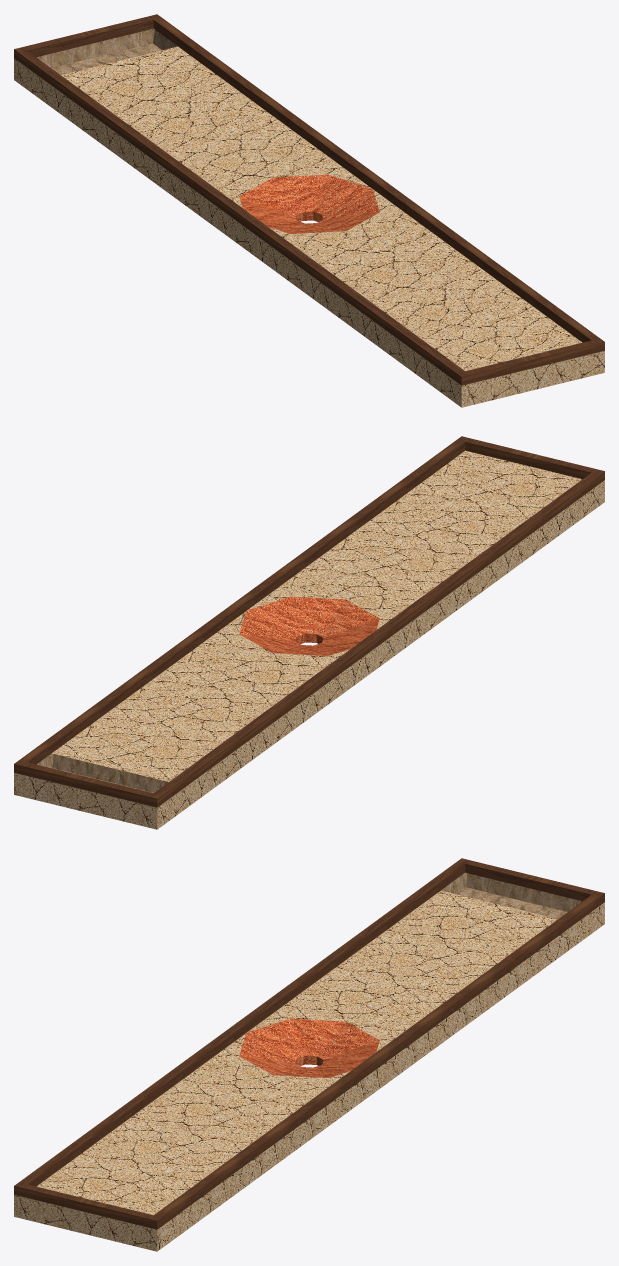
File: Stage2-01.gltf
3 views of the same model, one above another, from view 1: azimuth 30°, elevation 25°; view 2: azimuth 150°, elevation 25°; view 3: azimuth 330°, elevation 25° (orthographic).
Visible parts, largest first — view 1: Cube.001; view 2: Cube.001; view 3: Cube.001.
Boxes of the visible parts, bbox=[...] form: Cube.001: bbox=[14, 14, 604, 407]; Cube.001: bbox=[14, 436, 604, 829]; Cube.001: bbox=[14, 858, 604, 1251].
Size of the model in its own units: 3.4 by 0.7 by 18.4.
Materials: 8 (8 with a texture image).
